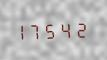five: (46, 20, 59, 39)
four: (60, 19, 73, 39)
one: (18, 21, 31, 40)
seven: (32, 20, 45, 40)
two: (74, 19, 87, 38)
